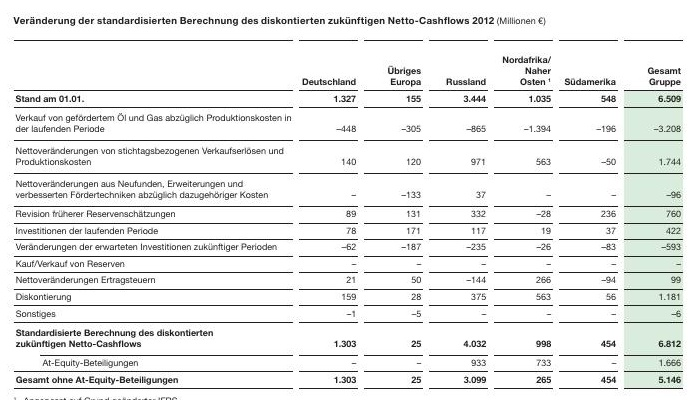table: (0, 0, 697, 400)
